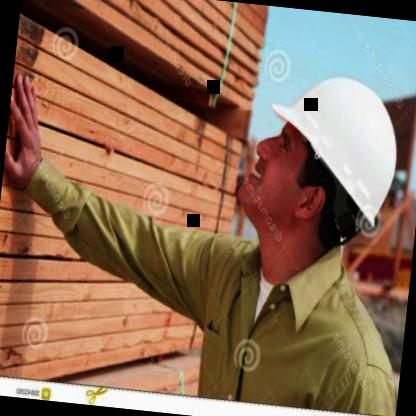helmet: (228, 39, 416, 287)
